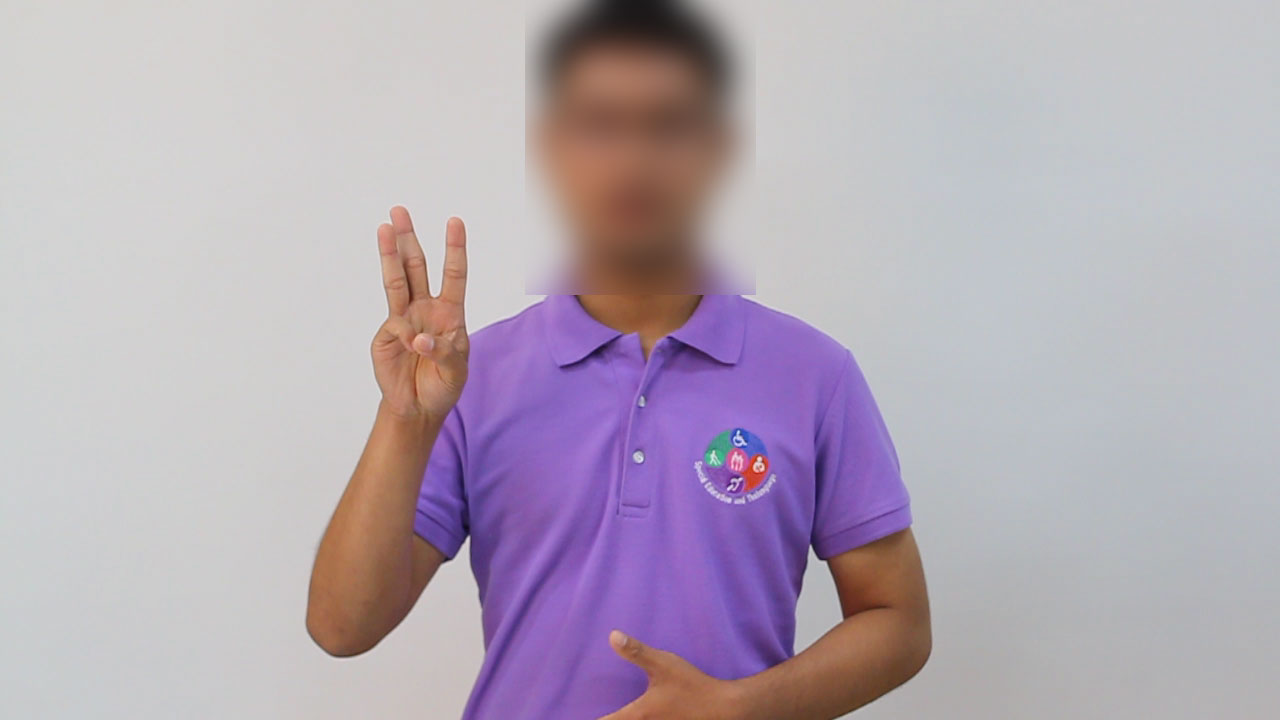wor: (364, 195, 477, 427)
